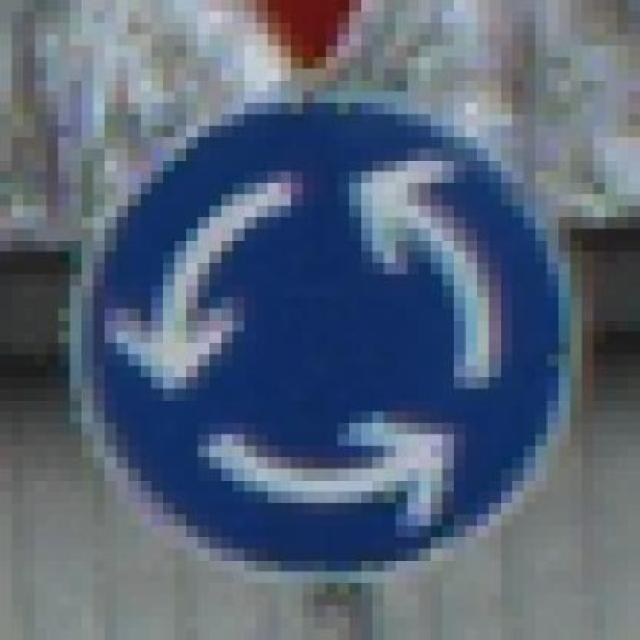Round-About: (69, 45, 594, 606)
